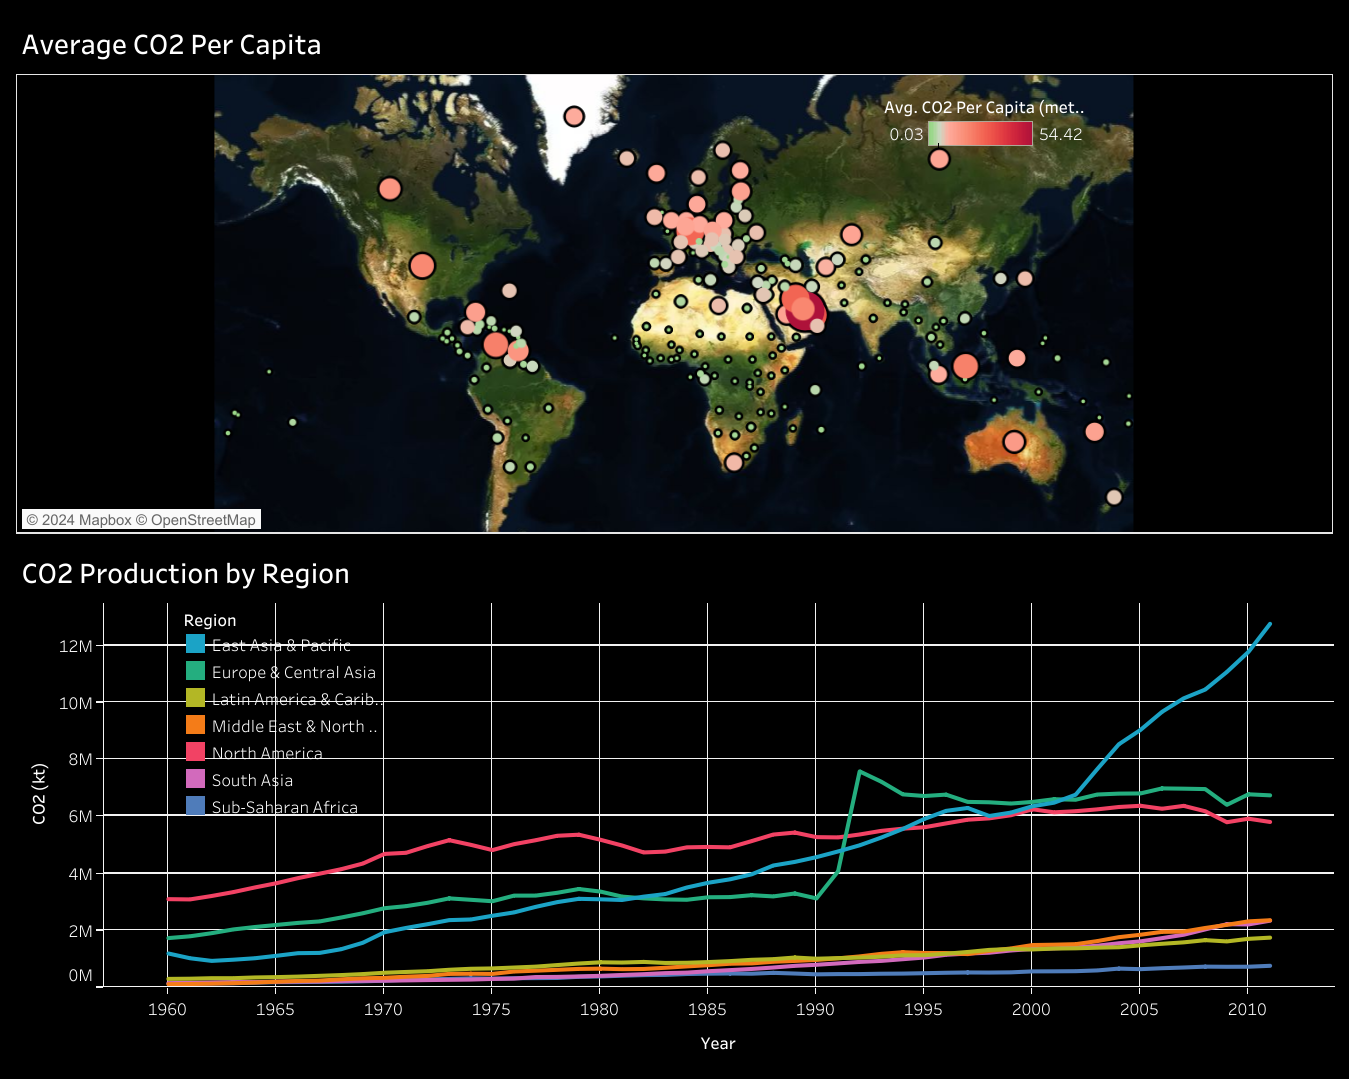

Layout of this report page (visuals, bound fields, positions):
{"tool":"tableau","page":{"name":"Dashboard 1","canvas":[1000,800],"ordinal":0},"visuals":[{"type":"worksheet","title":"Map","mark":"Automatic","box":[8,8,984,392]},{"type":"legend","title":"Map","param":"[federated.0wxolhj0jjlbs513f56uq12nf5sp].[avg:CO2 Per Capita (metric tons):qk]","box":[655,66,152,79]},{"type":"worksheet","title":"line","mark":"Automatic","rows":["CO2 (kt)"],"cols":["Year"],"box":[8,400,984,392]},{"type":"legend","title":"line","param":"[federated.0wxolhj0jjlbs513f56uq12nf5sp].[none:Region:nk]","box":[135,448,152,159]}]}

Visuals, with their boxes in screenshot pixels (x1, y1, x2, y2), scaled from the page's 1000x800 canvas onto the 1349x1079 screenshot:
"Map" worksheet: {"x1": 11, "y1": 11, "x2": 1338, "y2": 540}
"Map" legend: {"x1": 884, "y1": 89, "x2": 1089, "y2": 196}
"line" worksheet: {"x1": 11, "y1": 540, "x2": 1338, "y2": 1068}
"line" legend: {"x1": 182, "y1": 604, "x2": 387, "y2": 819}
